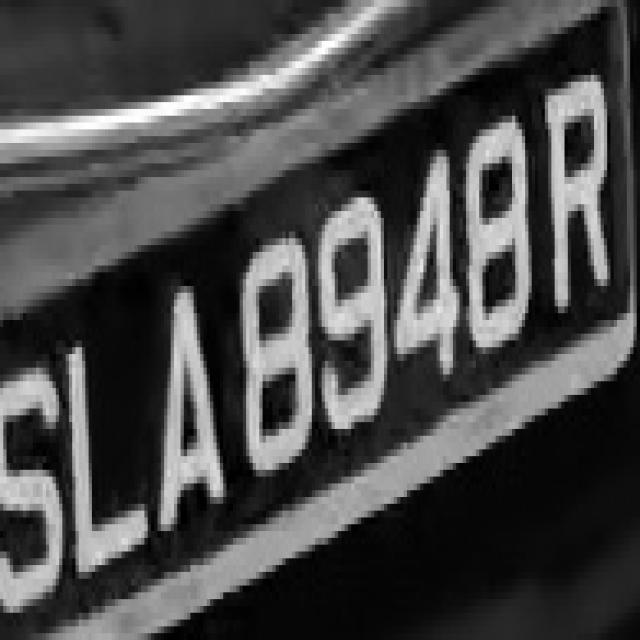4: (384, 150, 469, 402)
8: (460, 88, 548, 374), (240, 218, 318, 483)
9: (312, 184, 397, 442)
A: (151, 258, 233, 544)
L: (59, 306, 154, 572)
R: (538, 75, 624, 340)
S: (10, 333, 62, 612)
